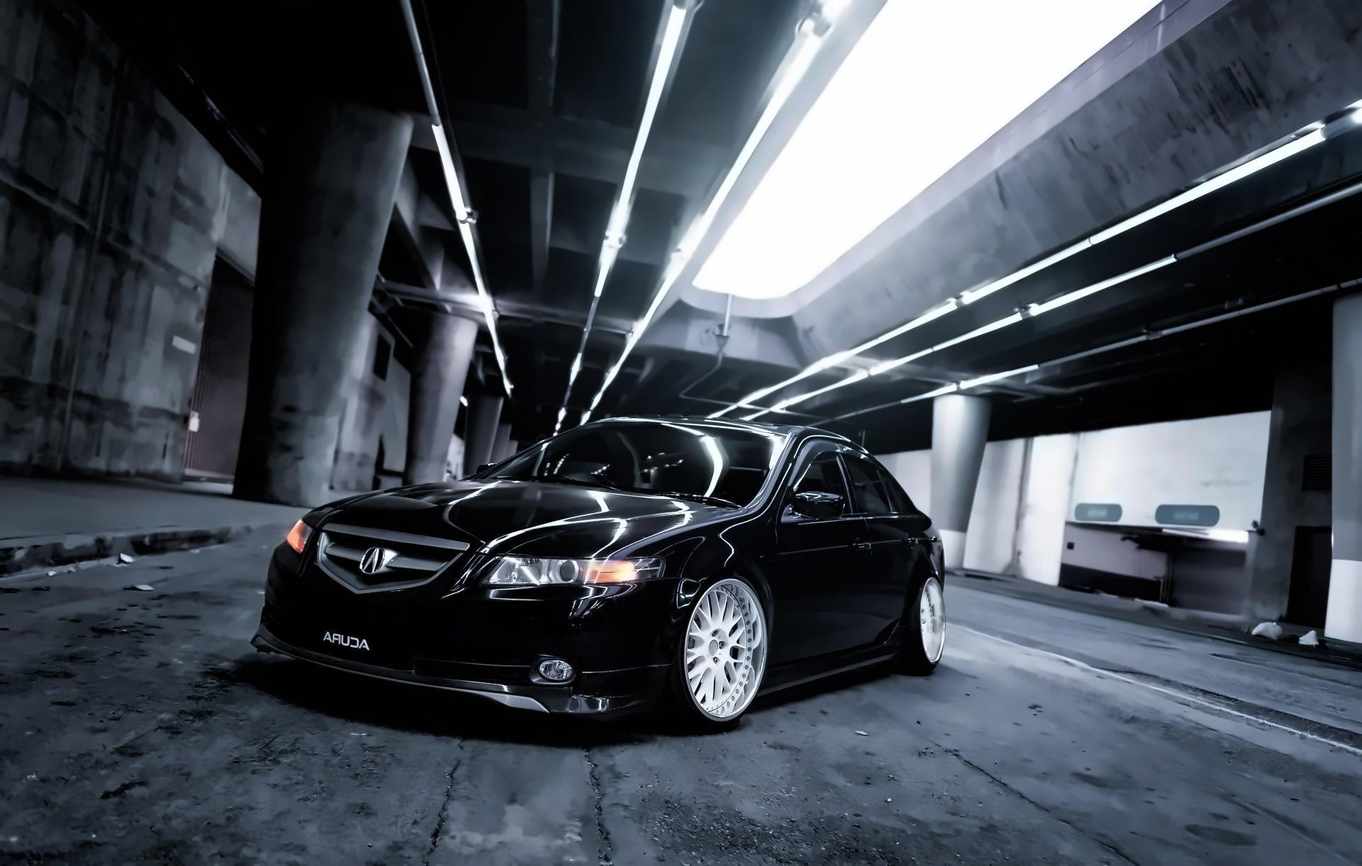Car hood: (304, 468, 731, 562)
Fender - -F-L-: (673, 488, 789, 719)
Front bumper: (234, 554, 681, 733)
Headlight - -L-: (485, 557, 664, 606)
Headlight - -R-: (284, 512, 317, 562)
Passenger-s door - -F-L-: (755, 397, 869, 712)
Passenger-s door - -R-L-: (829, 415, 928, 690)
Side bumper - -L-: (757, 635, 914, 712)
Side mirror - -L-: (782, 488, 844, 534)
